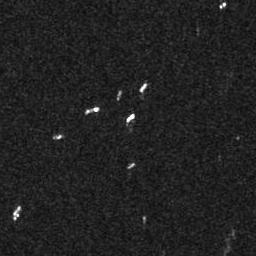ship: (11, 206, 22, 221), (85, 104, 99, 114), (125, 112, 136, 123), (139, 82, 148, 94), (126, 161, 136, 169)
